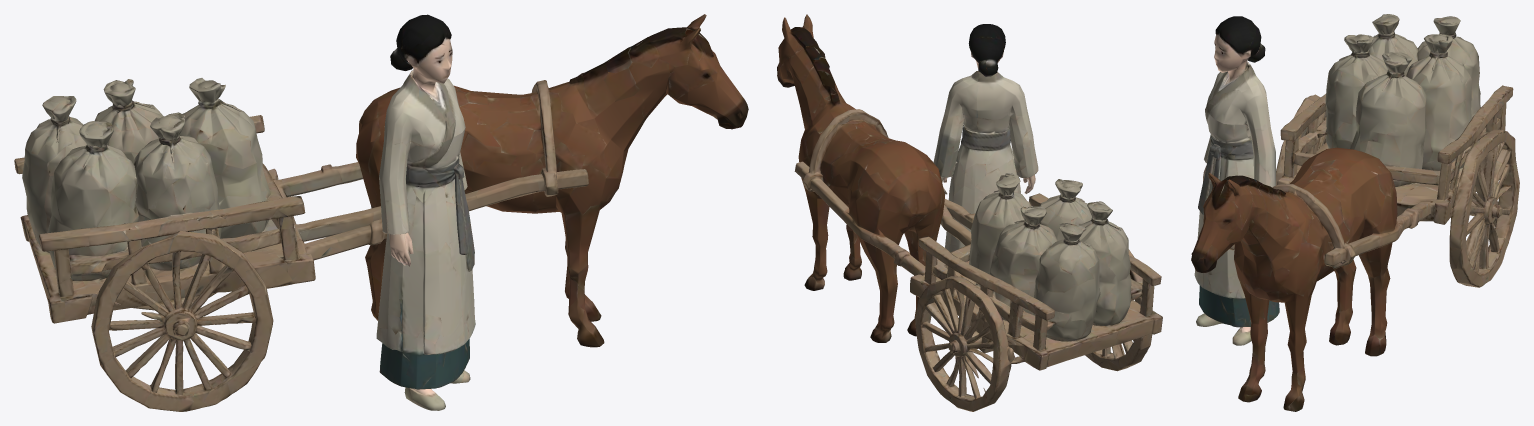
The model's file is grain-cart.glb.
The picture shows the model from 3 angles, left to right: view 1: azimuth 30°, elevation 25°; view 2: azimuth 150°, elevation 25°; view 3: azimuth 270°, elevation 25°; orthographic projection. The views are drawn at different scales.
Size of the model in its own units: 1.9 by 1.11 by 1.07.
Materials: 1 (1 with a texture image).
